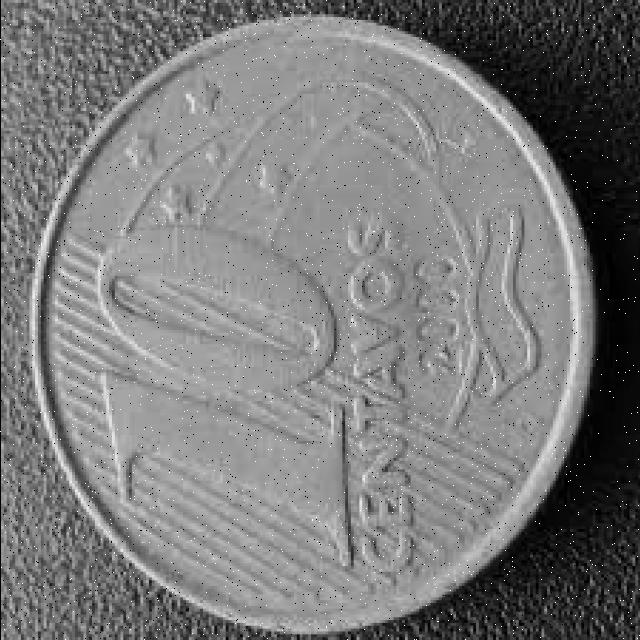10 cent: (30, 32, 593, 626)
